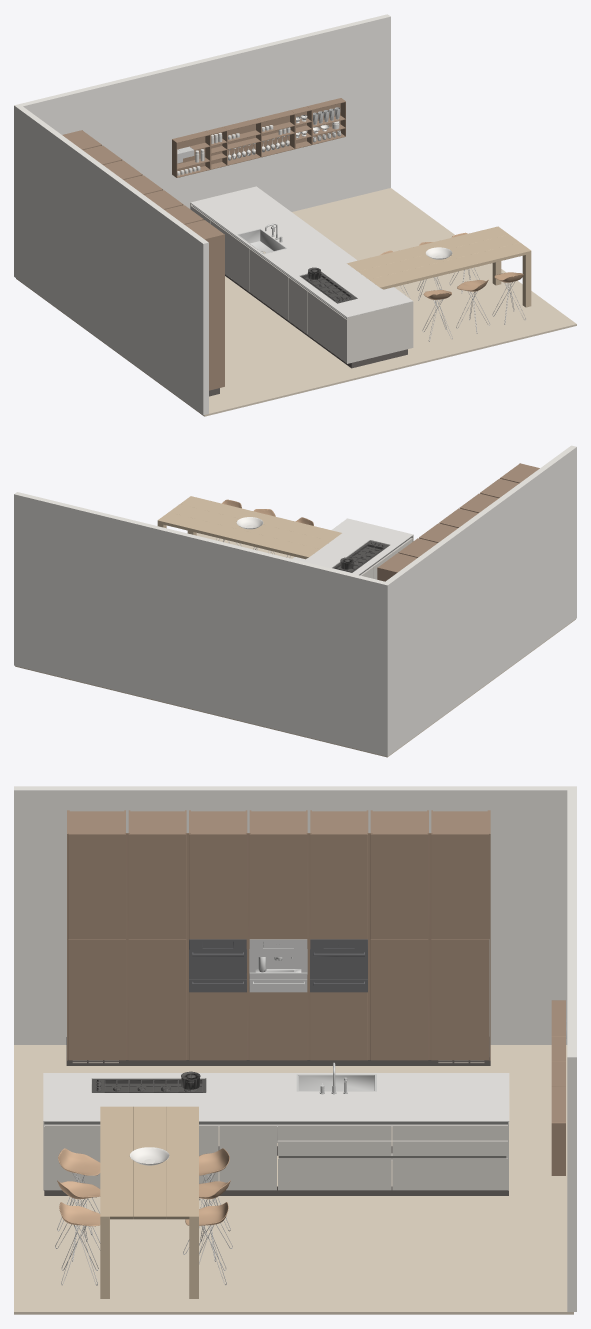
Rendered from bep-dao-oc-cho.glb.
3 views of the same model, one above another, from view 1: azimuth 30°, elevation 25°; view 2: azimuth 150°, elevation 25°; view 3: azimuth 270°, elevation 25° (orthographic). The views are drawn at different scales.
Visible parts, largest first — view 1: wall, floor, walnut, stone, lacquer, oak, steel, jar, leather, hob, plinth; view 2: wall, oak, walnut, stone, floor, hob; view 3: walnut, floor, wall, lacquer, stone, oak, steel, appliance, plinth, leather, hob.
Boxes of the visible parts, box(x1,y1,x2,y2) form: wall: box(14, 14, 390, 414); floor: box(16, 188, 576, 416); walnut: box(62, 98, 345, 390); stone: box(190, 186, 413, 318); lacquer: box(190, 203, 413, 363); oak: box(347, 226, 531, 307); steel: box(177, 107, 525, 341); jar: box(177, 115, 341, 175); leather: box(380, 232, 523, 299); hob: box(300, 267, 356, 303); plinth: box(209, 274, 407, 396); wall: box(14, 445, 576, 756); oak: box(157, 496, 341, 559); walnut: box(377, 463, 539, 581); stone: box(292, 518, 413, 575); floor: box(15, 533, 575, 757); hob: box(332, 540, 389, 572); walnut: box(67, 810, 565, 1175); floor: box(14, 1045, 573, 1314); wall: box(14, 786, 576, 1311); lacquer: box(43, 1084, 508, 1190); stone: box(43, 1073, 509, 1126); oak: box(100, 1106, 198, 1298); steel: box(55, 939, 566, 1285); appliance: box(189, 939, 367, 992); plinth: box(44, 1037, 508, 1195); leather: box(57, 1148, 230, 1226); hob: box(92, 1071, 206, 1092).
Bounding box in the file's own units: 6.62 × 2.93 × 5.81.
